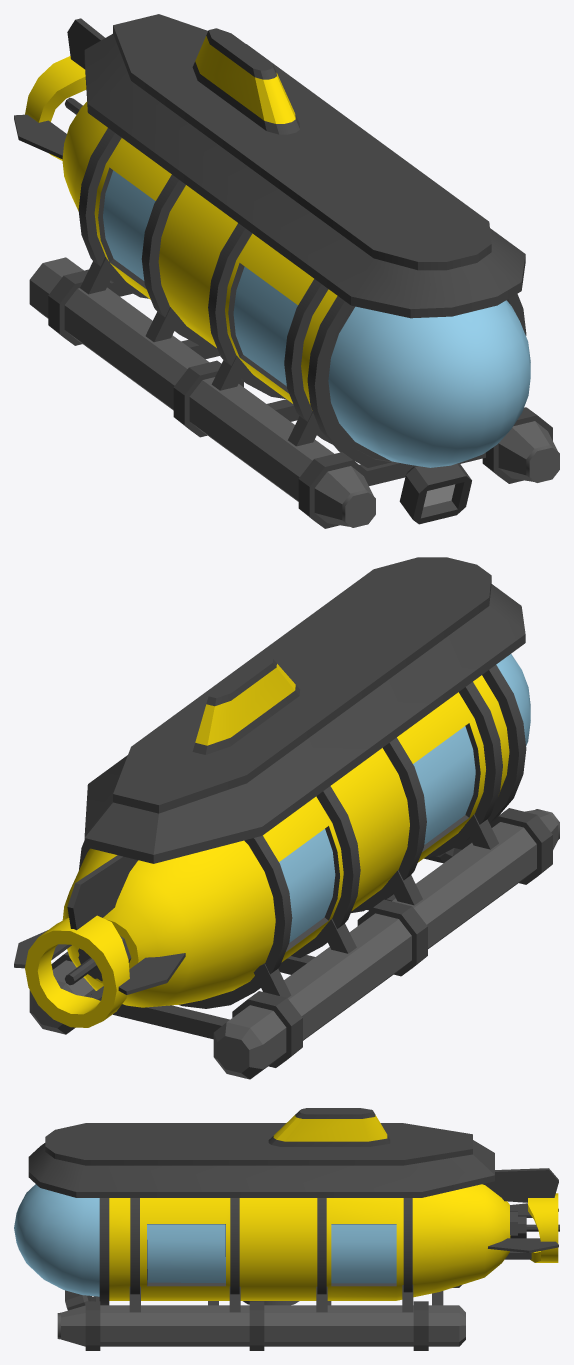
The model's file is Submarine 23.01.fbx.
3 renders of one model, top to bottom at view 1: azimuth 30°, elevation 25°; view 2: azimuth 150°, elevation 25°; view 3: azimuth 270°, elevation 25°, orthographic. The views are drawn at different scales.
Parts seen in each view (by area): view 1: Large Submarine, Large Windows; view 2: Large Submarine, Large Windows; view 3: Large Submarine, Large Windows.
Part boxes in pixels (<box>): Large Submarine: <box>14,14,559,528</box>; Large Windows: <box>103,170,530,467</box>; Large Submarine: <box>14,557,559,1079</box>; Large Windows: <box>279,654,530,942</box>; Large Submarine: <box>28,1108,559,1350</box>; Large Windows: <box>14,1184,396,1296</box>.
Size of the model in its own units: 493 by 631 by 1462.
